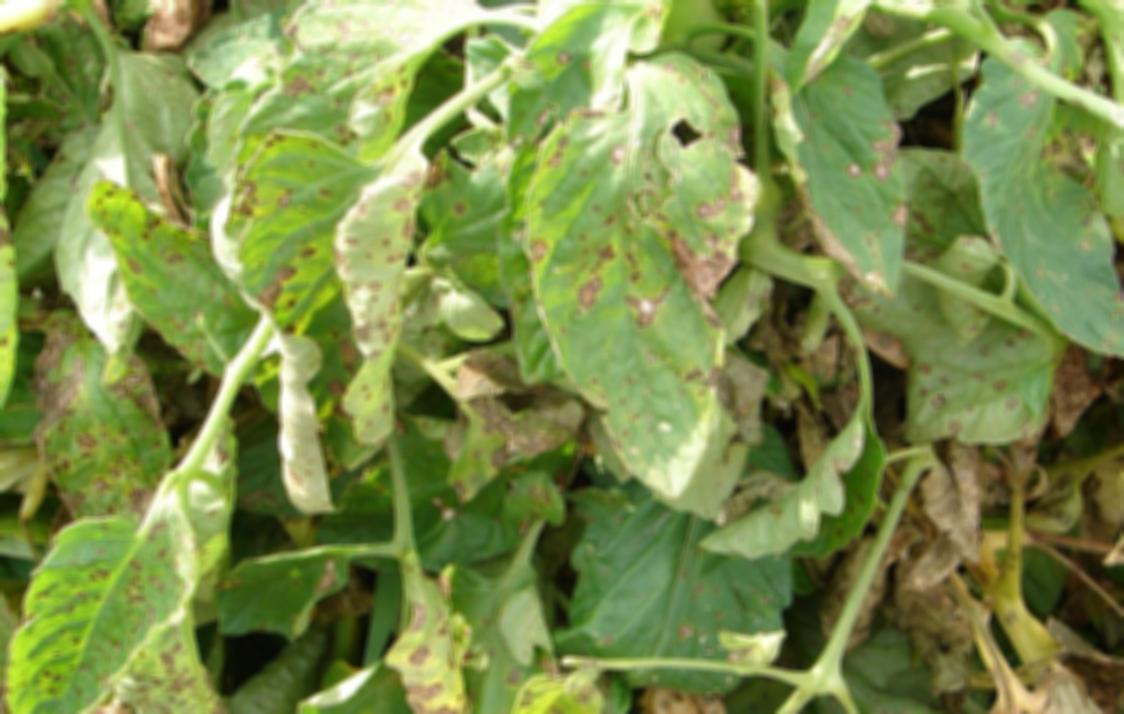Tomato Septoria leaf spot: (526, 44, 770, 514), (186, 0, 483, 227), (238, 123, 435, 456), (759, 34, 935, 313), (86, 176, 280, 413), (0, 497, 205, 714), (291, 580, 466, 714)
